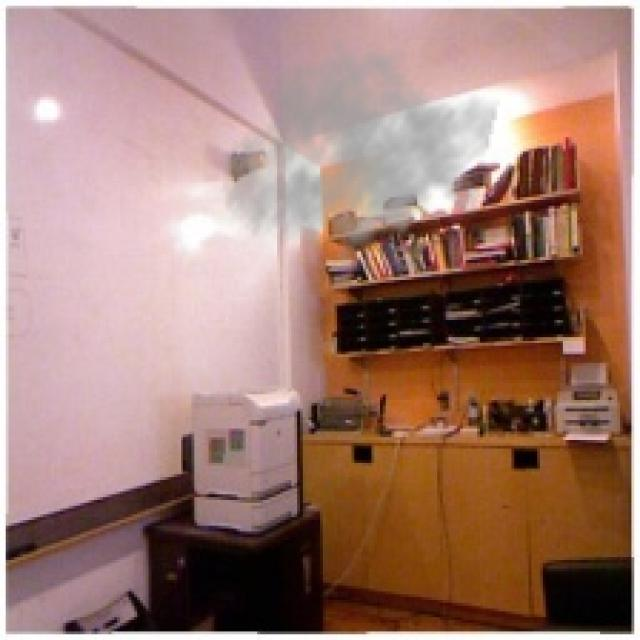smoke: (220, 37, 500, 274)
